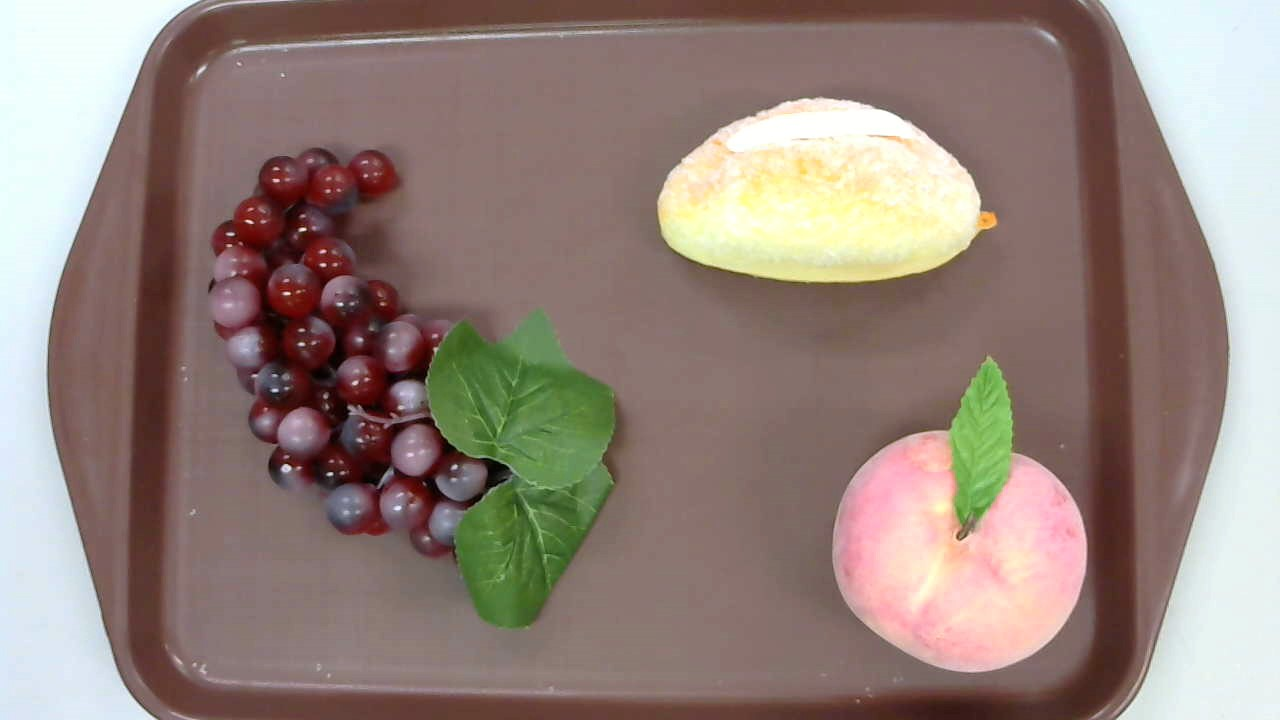coconut: (657, 97, 997, 285)
grape: (205, 145, 616, 626)
peach: (829, 355, 1087, 672)
